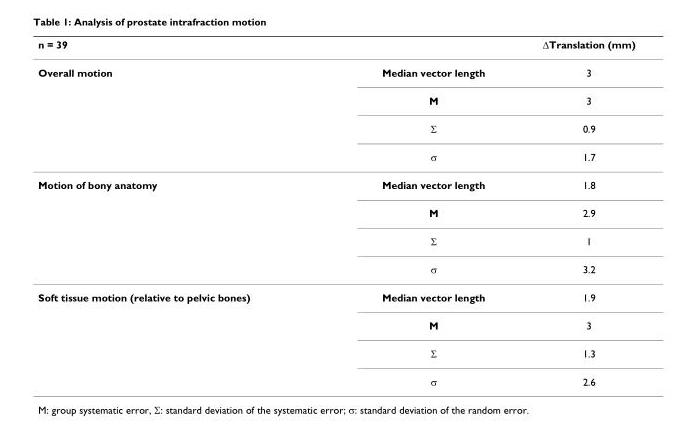table: (37, 37, 634, 387)
table column: (37, 37, 315, 387), (315, 37, 512, 387), (512, 37, 634, 387)
table column header: (37, 37, 634, 58)
table row: (37, 141, 634, 170), (37, 58, 634, 86), (37, 113, 634, 141), (37, 170, 634, 198), (37, 198, 634, 226), (37, 226, 634, 254), (37, 254, 634, 282), (37, 282, 634, 310), (37, 310, 634, 338), (37, 338, 634, 366), (37, 86, 634, 113), (37, 37, 634, 58), (37, 366, 634, 387)
table spanning cell: (37, 58, 315, 170), (37, 170, 315, 282), (37, 282, 315, 387)
